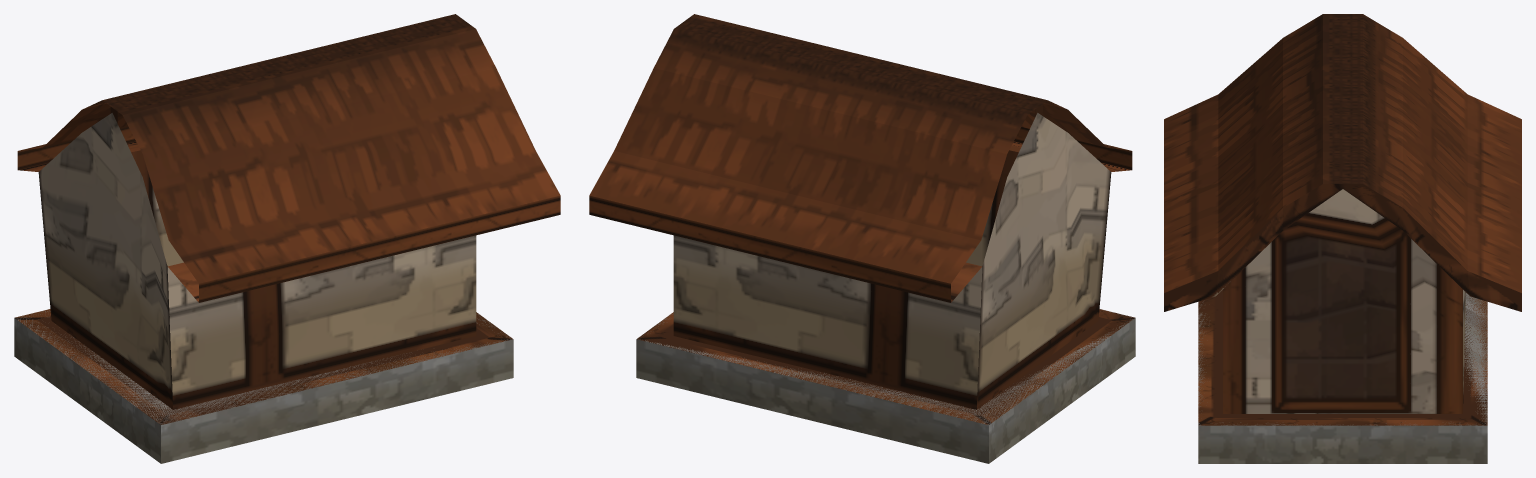
File: RoofWindow2.fbx
3 views of the same model, side by side, from view 1: azimuth 30°, elevation 25°; view 2: azimuth 150°, elevation 25°; view 3: azimuth 270°, elevation 25° (orthographic).
Parts seen in each view (by area): view 1: Roof Window 2, Roof Window 2_col; view 2: Roof Window 2, Roof Window 2_col; view 3: Roof Window 2, Roof Window 2_col.
Part boxes in pixels (x1,y1,x2,y2): Roof Window 2: [14, 14, 560, 463]; Roof Window 2_col: [17, 310, 512, 424]; Roof Window 2: [589, 14, 1135, 463]; Roof Window 2_col: [640, 309, 1132, 424]; Roof Window 2: [1164, 14, 1521, 463]; Roof Window 2_col: [1198, 293, 1487, 425].
Bounding box in the file's own units: 283 × 207 × 230.
